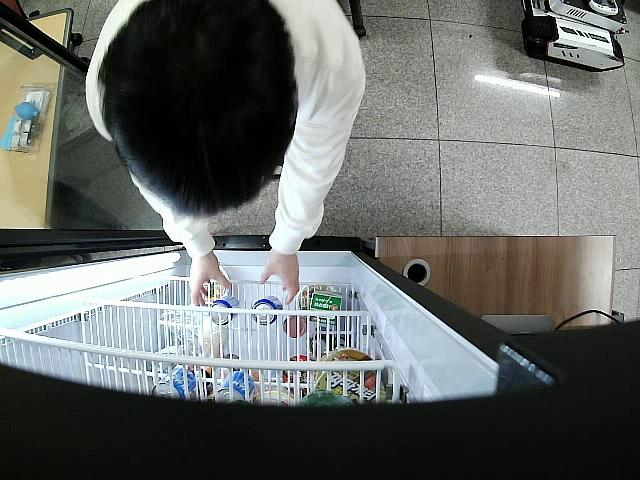00_hand: (259, 250, 299, 303), (189, 257, 231, 305)
